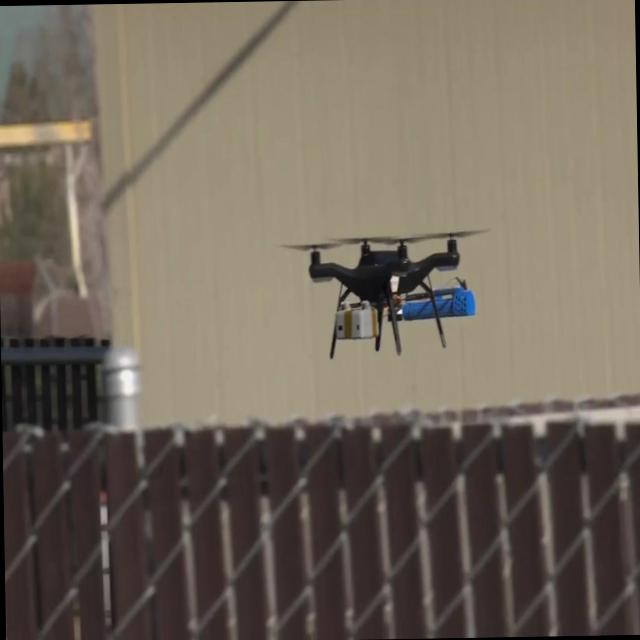drone: (288, 226, 487, 362)
